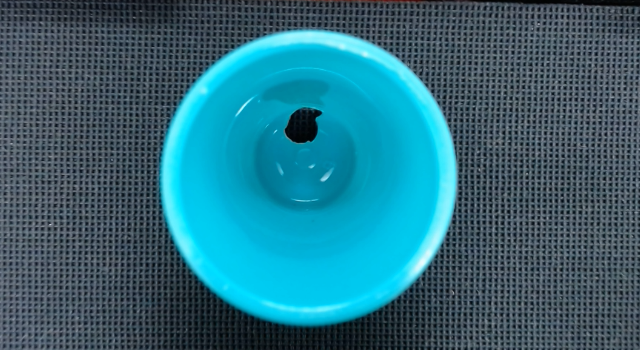hole: (286, 107, 321, 143)
